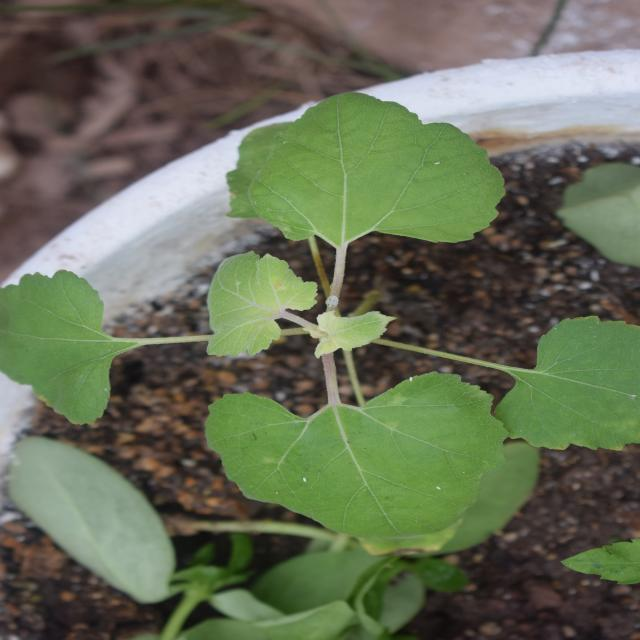cocklebur: (110, 7, 537, 600)
